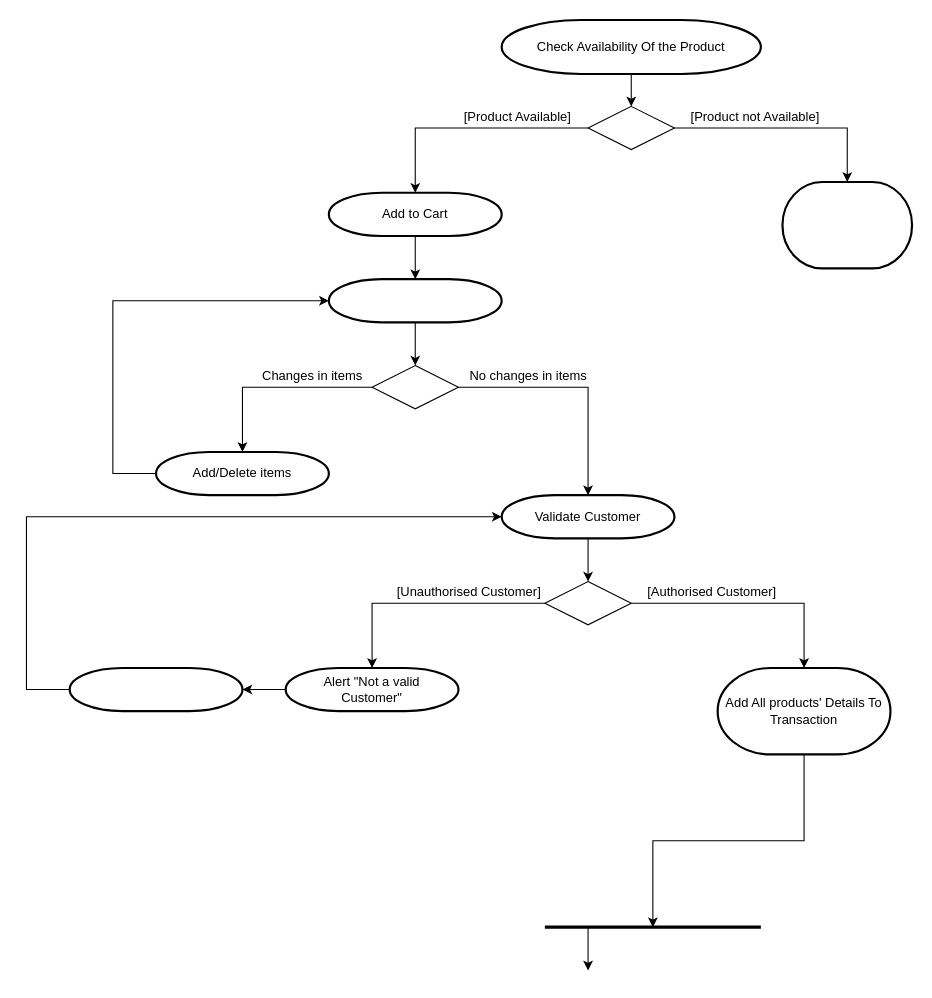
This 932x998 diagram has some shape labels left out. Here are the shapes that lost their labels. From the top down, the centre of each, then its label:
(x=847, y=224): Alert "Product not Available"
(x=414, y=300): Ask for Any Changes
(x=155, y=689): Ask To Login/Sign Up
